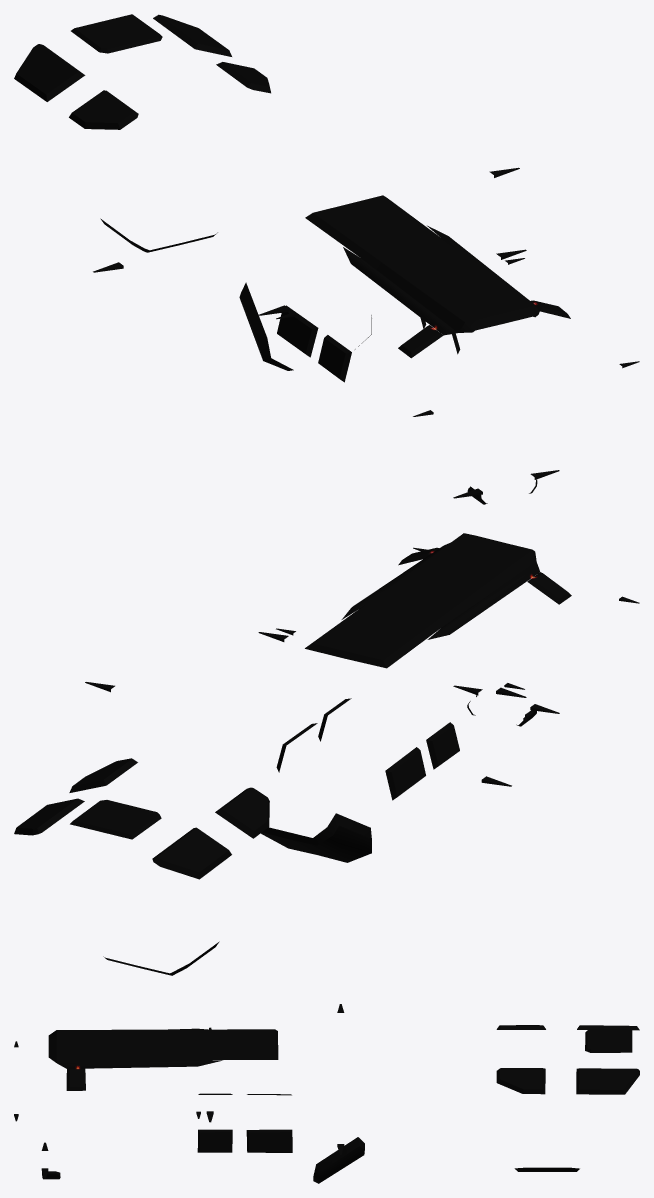
Rendered from hgn_cf_ionc_01_t3.glb.
3 renders of one model, top to bottom at view 1: azimuth 30°, elevation 25°; view 2: azimuth 150°, elevation 25°; view 3: azimuth 270°, elevation 25°, orthographic. The views are drawn at different scales.
Parts seen in each view (by area): view 1: hgn_ion_cannon_frigate_01_t3_LOD0; view 2: hgn_ion_cannon_frigate_01_t3_LOD0; view 3: hgn_ion_cannon_frigate_01_t3_LOD0.
Part boxes in pixels (x1=…): hgn_ion_cannon_frigate_01_t3_LOD0: x1=14, y1=14, x2=639, y2=504; hgn_ion_cannon_frigate_01_t3_LOD0: x1=14, y1=533, x2=639, y2=975; hgn_ion_cannon_frigate_01_t3_LOD0: x1=14, y1=1004, x2=639, y2=1183.
Size of what is drawn, in the model's own units: 1.79 by 0.7438 by 3.14.
1 material, 1 textured.
